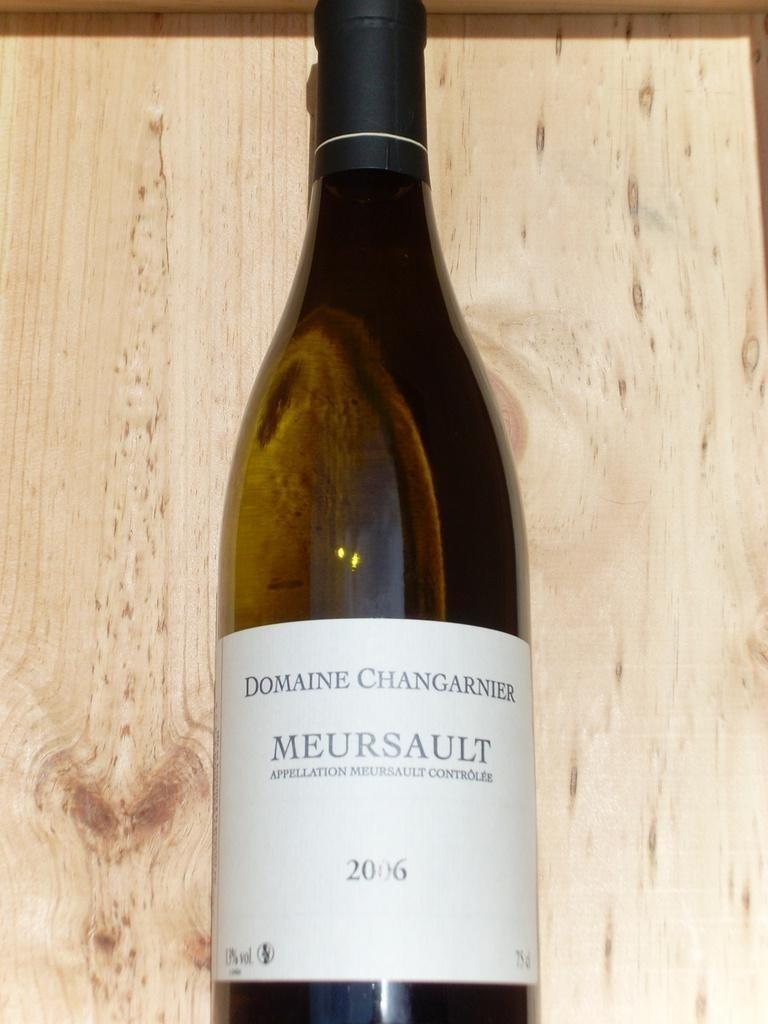bottle-glass: (204, 1, 544, 1023)
